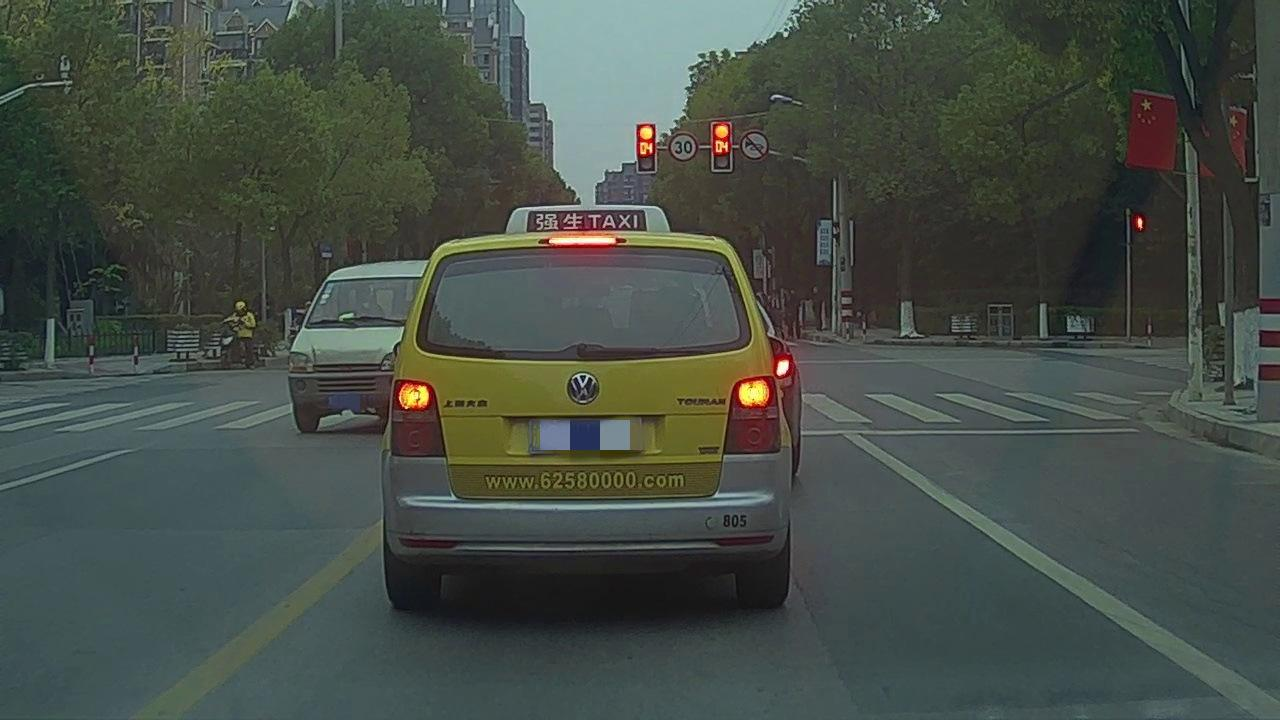traffic_light: (637, 125, 655, 172), (712, 123, 729, 169)
